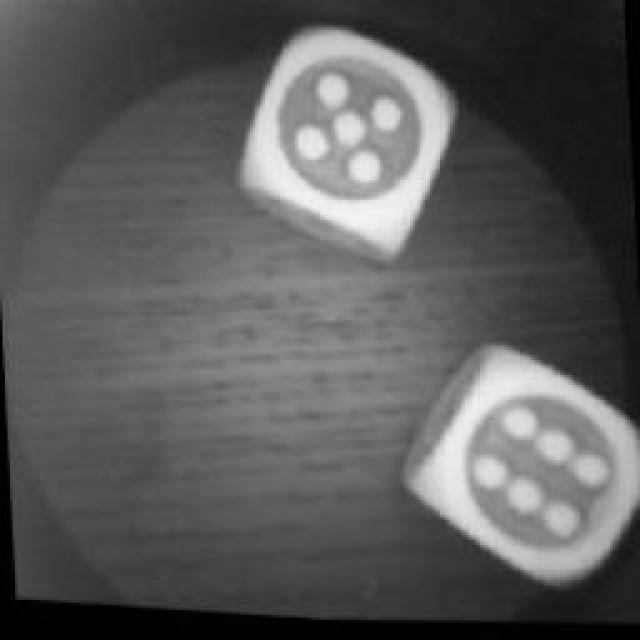dice_5: (228, 8, 464, 268)
dice_6: (395, 330, 640, 600)
